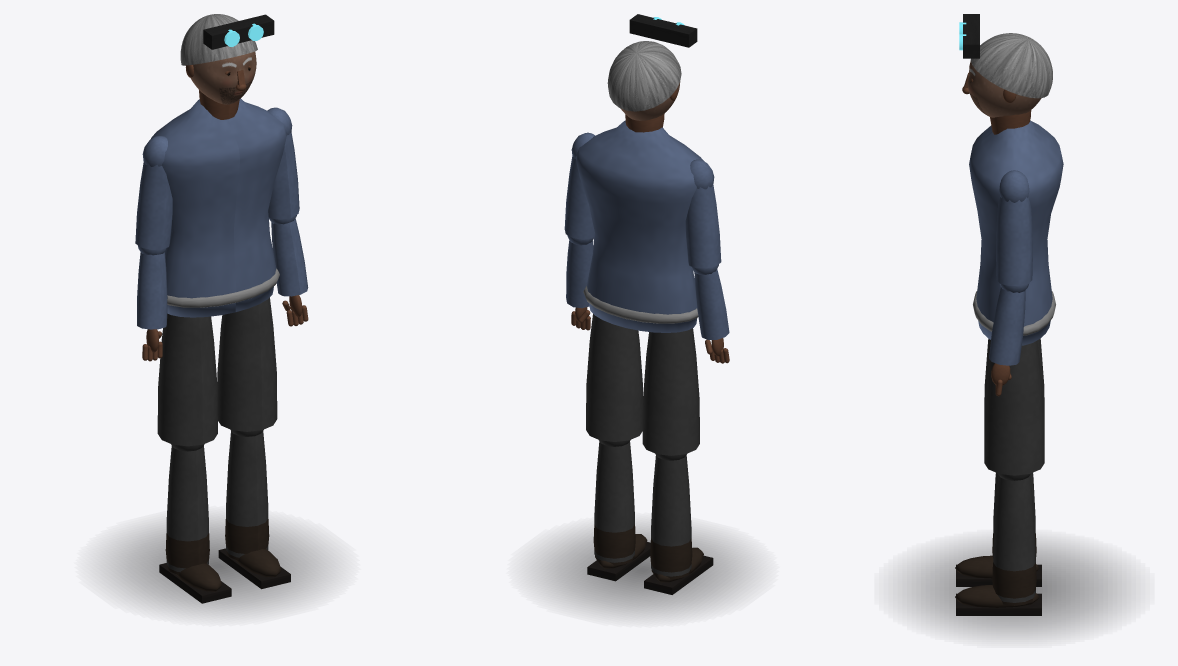
File: npc_wick.glb
3 renders of one model, left to right at view 1: azimuth 30°, elevation 25°; view 2: azimuth 150°, elevation 25°; view 3: azimuth 270°, elevation 25°, orthographic. The views are drawn at different scales.
Visible parts, largest first — view 1: chest, object 11, legL, legR, shinR, shinL, head, armL, foreL, foreR, armR; view 2: chest, object 11, legL, legR, head, shinL, shinR, armL, foreL, foreR, armR; view 3: object 11, chest, shinR, head, legR, armR, foreR, shinL, legL.
Boxes of the visible parts, x1,y1,x2,y2 form: chest: [151, 90, 287, 317]; object 11: [103, 518, 331, 613]; legL: [157, 313, 217, 446]; legR: [217, 297, 277, 431]; shinR: [218, 429, 290, 589]; shinL: [159, 444, 231, 603]; head: [180, 14, 274, 104]; armL: [135, 136, 172, 249]; foreL: [137, 245, 167, 361]; foreR: [269, 215, 308, 326]; armR: [267, 107, 299, 219]; chest: [576, 114, 704, 332]; object 11: [534, 524, 751, 615]; legL: [642, 328, 699, 455]; legR: [586, 314, 642, 441]; head: [607, 14, 697, 120]; shinL: [644, 453, 713, 594]; shinR: [587, 440, 650, 581]; armL: [685, 159, 721, 268]; foreL: [691, 264, 729, 363]; foreR: [566, 235, 593, 330]; armR: [564, 132, 595, 239]; object 11: [902, 541, 1126, 636]; chest: [969, 110, 1063, 345]; shinR: [955, 473, 1041, 615]; head: [959, 14, 1052, 117]; legR: [984, 340, 1044, 475]; armR: [996, 170, 1032, 285]; foreR: [989, 284, 1028, 396]; shinL: [955, 472, 1041, 586]; legL: [984, 339, 1044, 426].
Bounding box in the file's own units: 0.868 × 1.81 × 0.868.
Materials: 8 (5 with a texture image).
